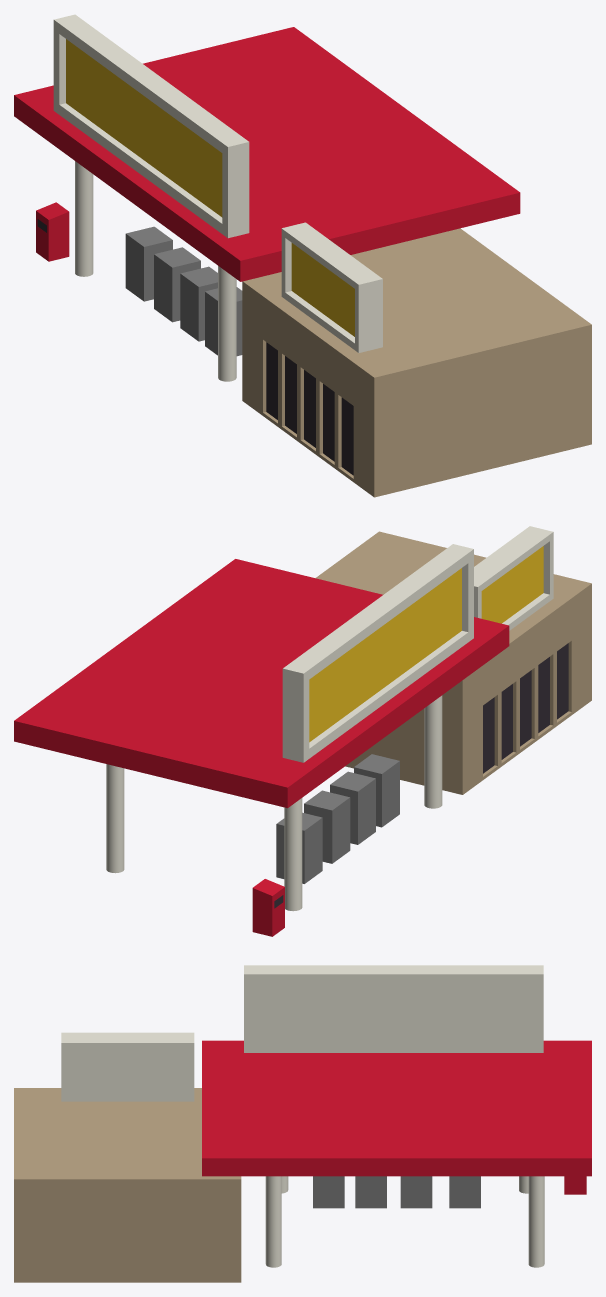
Rendered from 建筑物10.fbx.
The picture shows the model from 3 angles, top to bottom: view 1: azimuth 30°, elevation 25°; view 2: azimuth 150°, elevation 25°; view 3: azimuth 270°, elevation 25°; orthographic projection. The views are drawn at different scales.
Visible parts, largest first — view 1: 桶7_1; view 2: 桶7_1; view 3: 桶7_1.
Boxes of the visible parts, x1,y1,x2,y2 form: 桶7_1: (14, 14, 591, 497); 桶7_1: (14, 526, 591, 936); 桶7_1: (14, 965, 591, 1282).
Size of the model in its own units: 858 by 749 by 1781.
